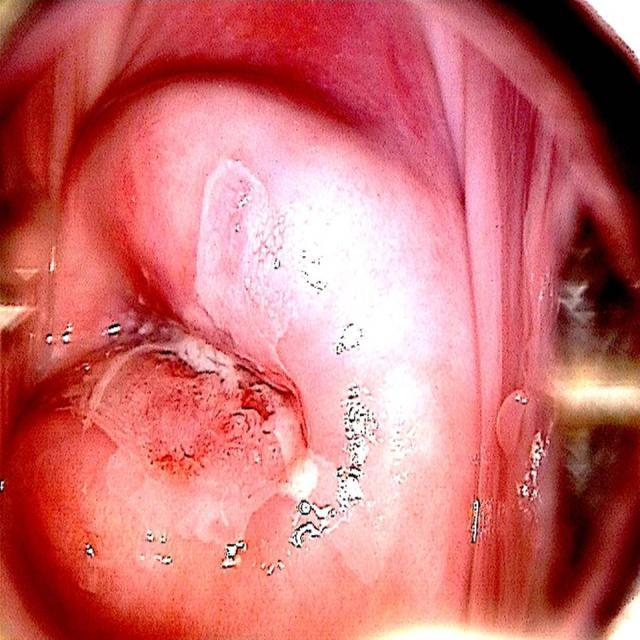cervical_lesion: (40, 155, 424, 612)
